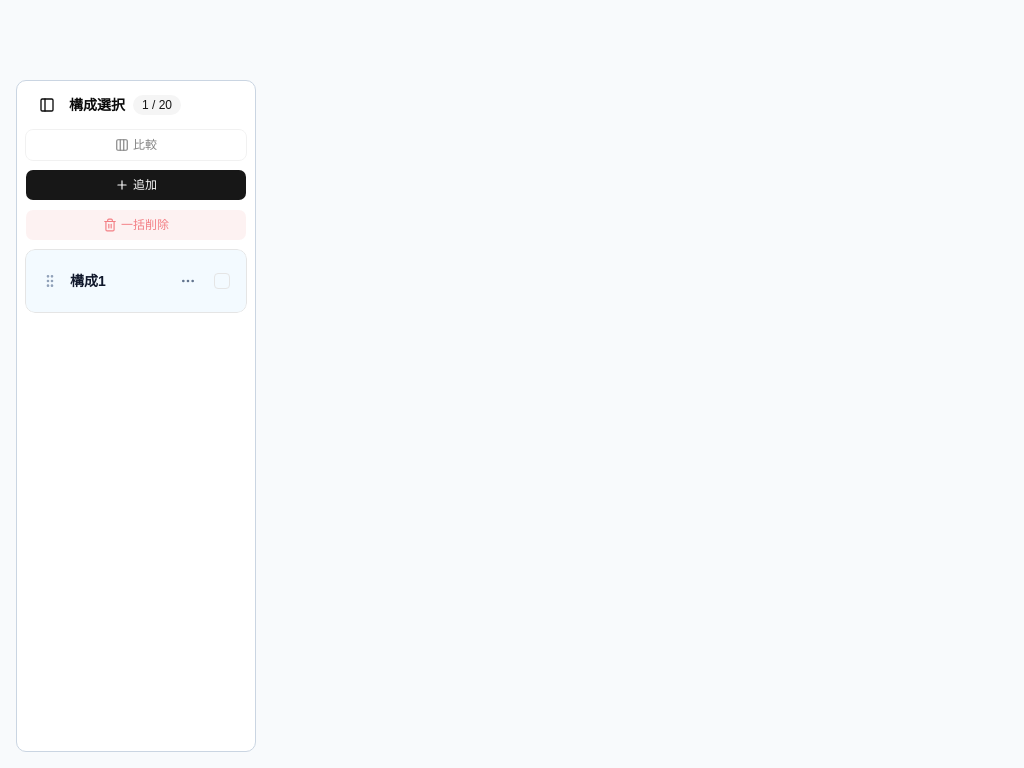
Scenario: ConfigList（未ログイン時） › 名前変更ダイアログを開く
Click the button named "構成1の操作メニュー" at (188,281), box [174,267,202,295]
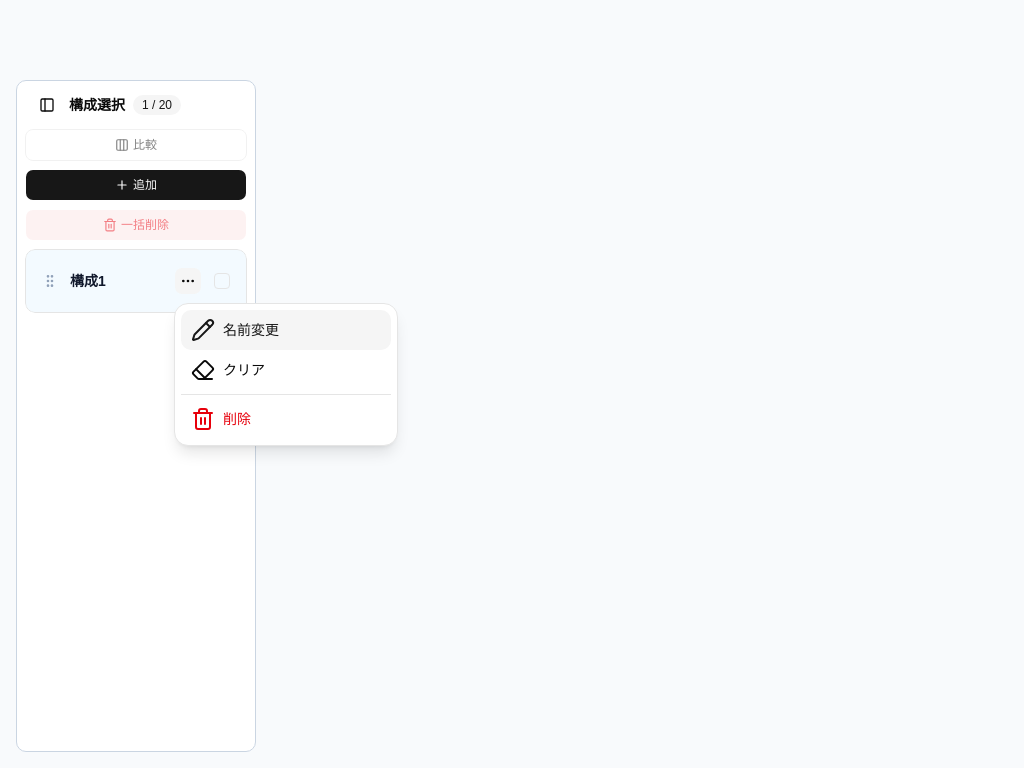
Click the menu item "名前変更" at (286,330), box [181,310,391,350]
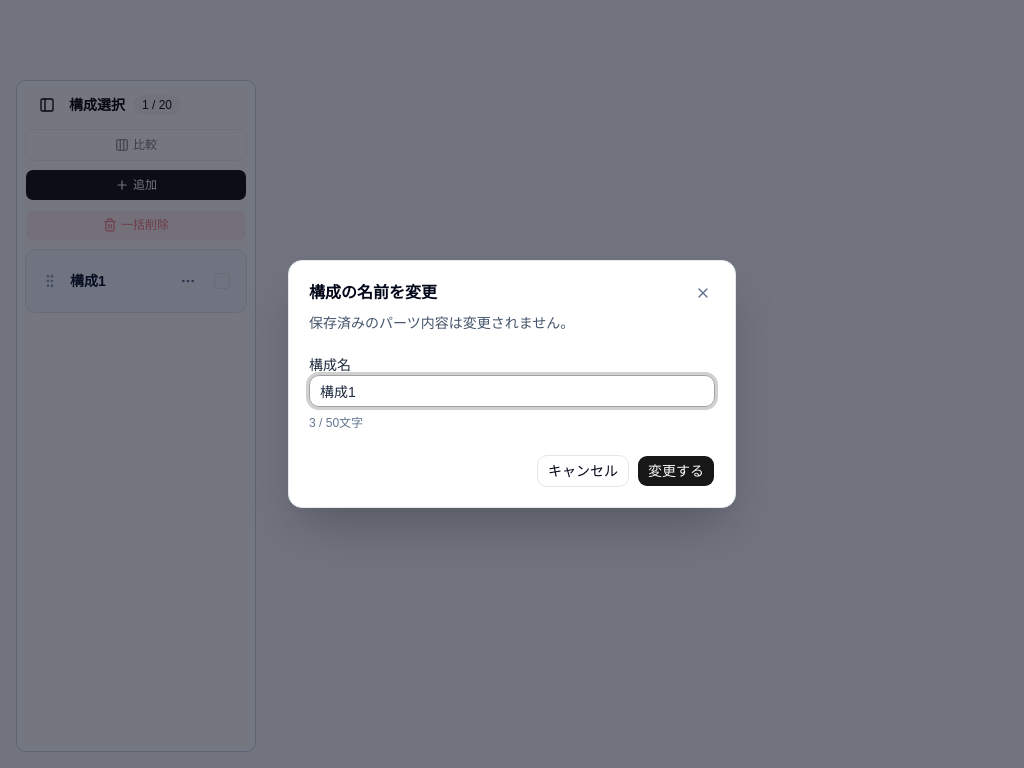
Check: the heading "構成の名前を変更" is shown, box [309,284,437,301]
